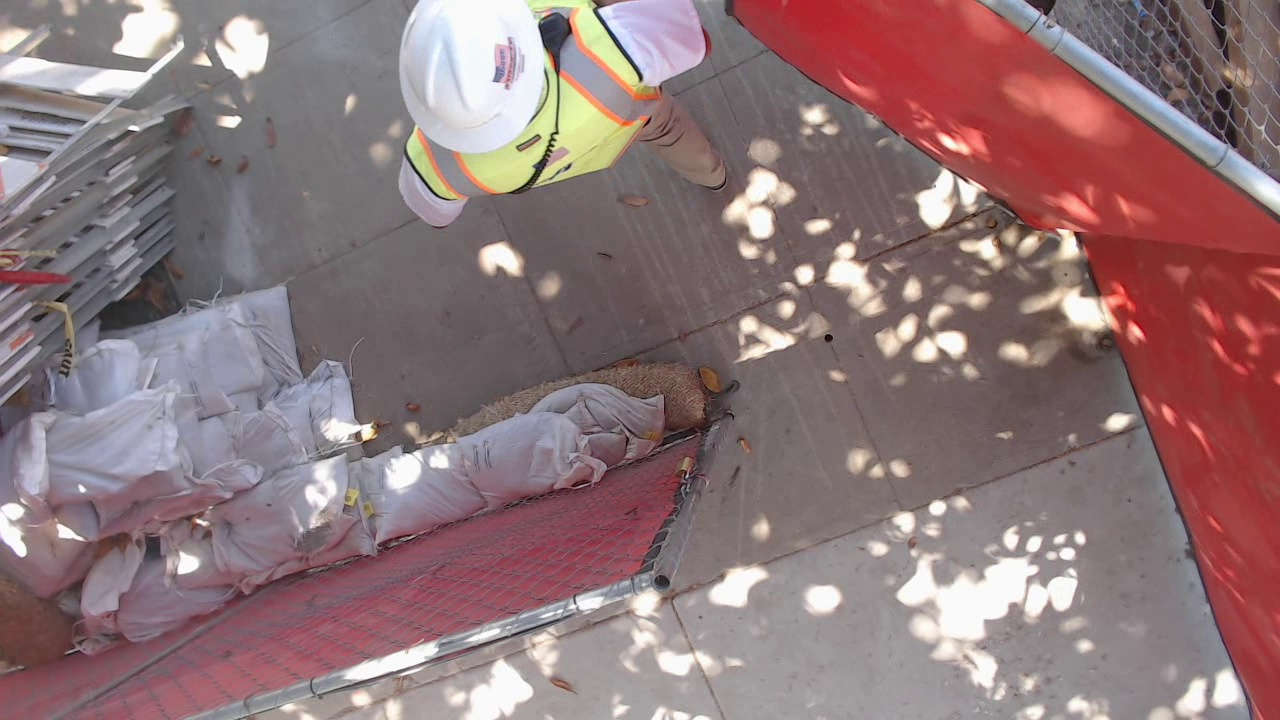hardhat: (401, 2, 545, 157)
person: (397, 1, 730, 228)
safetyvest: (404, 1, 653, 202)
